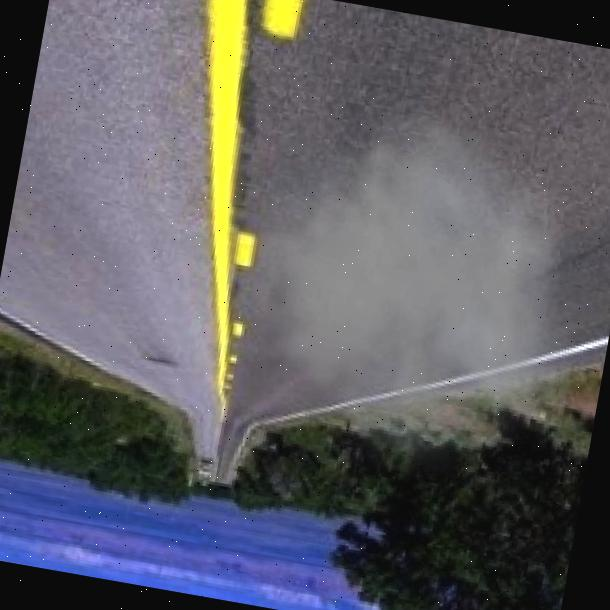smoke: (177, 58, 610, 512)
